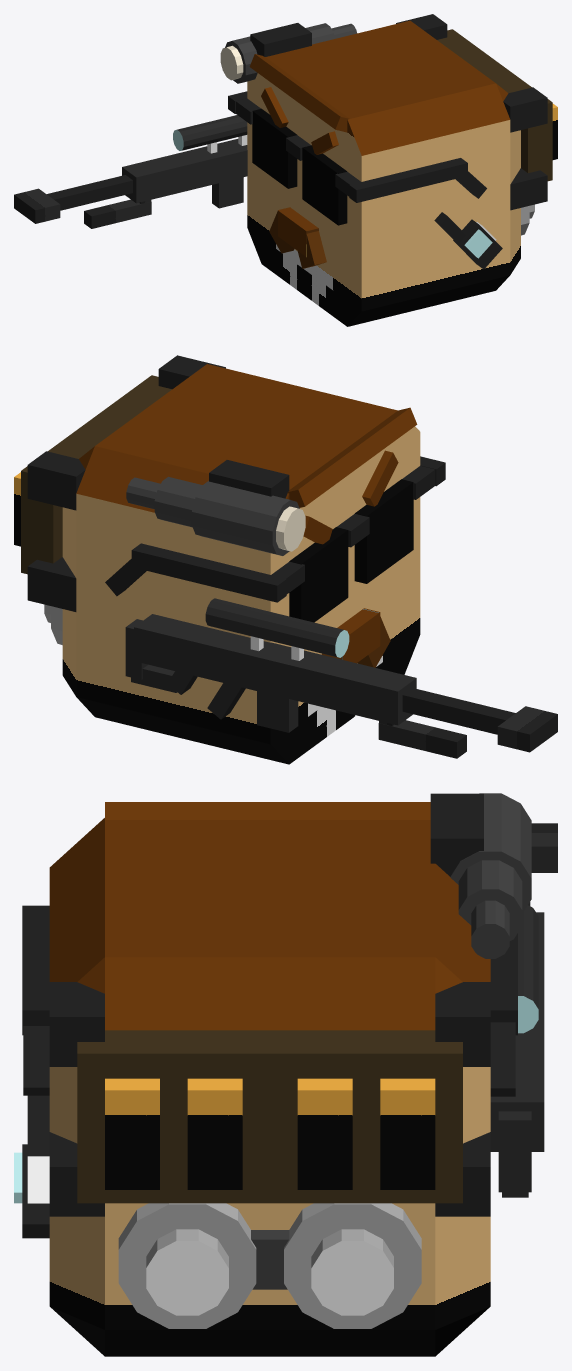
File: playerHoldingsniper.gltf
3 renders of one model, top to bottom at view 1: azimuth 30°, elevation 25°; view 2: azimuth 150°, elevation 25°; view 3: azimuth 270°, elevation 25°, orthographic. The views are drawn at different scales.
Parts seen in each view (by area): view 1: beveled_cuboid, cube (×23), tube (×2), cylinder; view 2: beveled_cuboid, cube (×26), tube (×3), cylinder; view 3: beveled_cuboid, cube (×22), tube (×7), cylinder.
Boxes of the visible parts, x1=… form: beveled_cuboid: x1=247, y1=20, x2=520, y2=326; cube (×23): x1=14, y1=14, x2=552, y2=269; tube (×2): x1=220, y1=23, x2=335, y2=83; cylinder: x1=173, y1=115, x2=247, y2=150; beveled_cuboid: x1=62, y1=364, x2=420, y2=764; cube (×26): x1=14, y1=355, x2=557, y2=758; tube (×3): x1=126, y1=476, x2=305, y2=555; cylinder: x1=205, y1=598, x2=349, y2=657; beveled_cuboid: x1=49, y1=818, x2=490, y2=1356; cube (×22): x1=22, y1=793, x2=557, y2=1289; tube (×7): x1=118, y1=793, x2=531, y2=1328; cylinder: x1=518, y1=905, x2=538, y2=1033.
Bounding box in the file's own units: 2.15 × 1.06 × 1.23.
5 materials, 5 textured.
